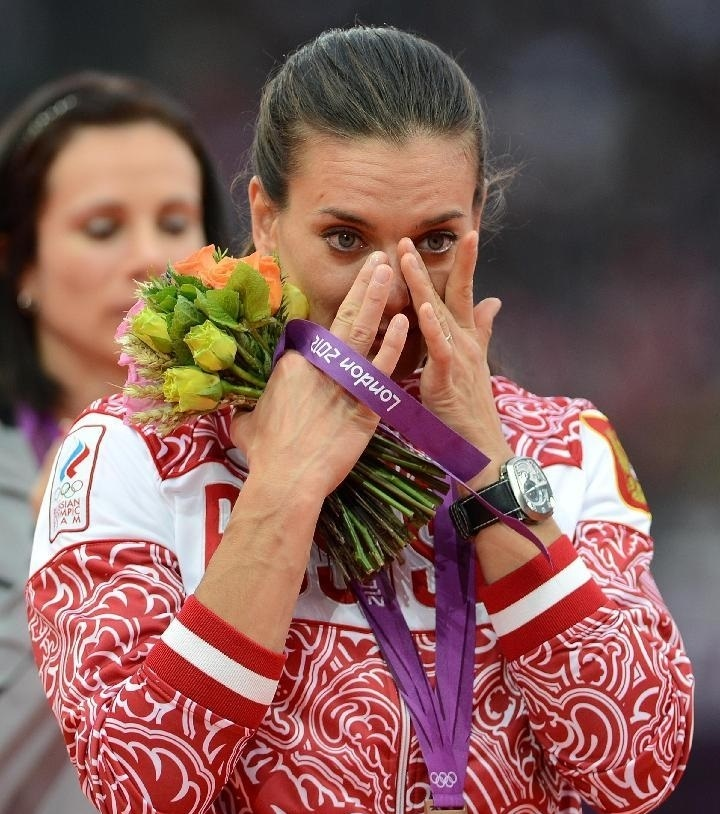face: (272, 128, 477, 377), (36, 126, 201, 366)
